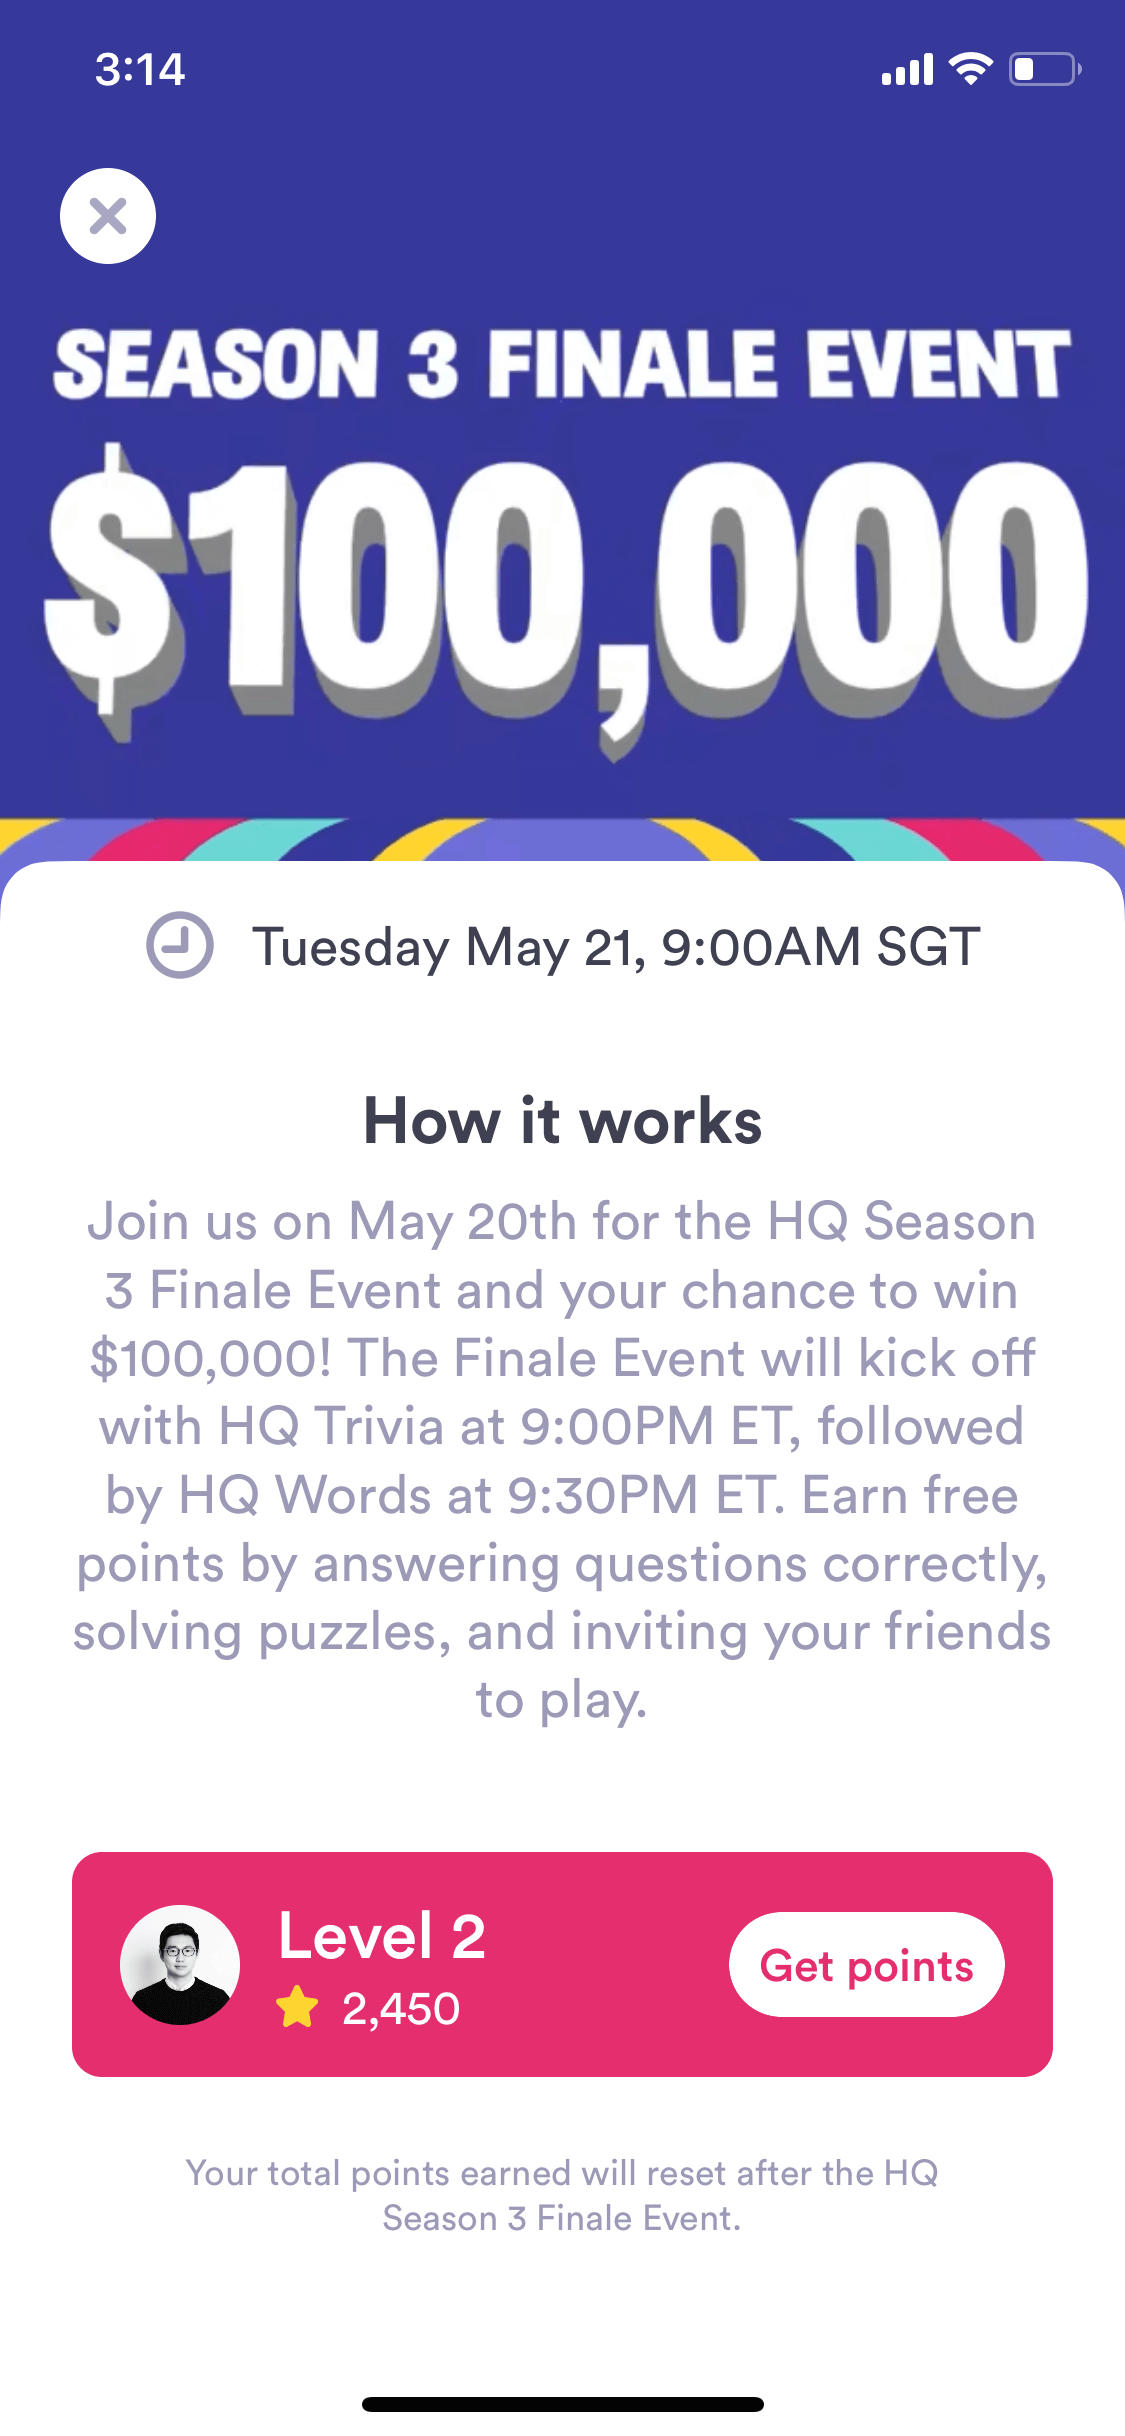Buttons: (721, 1898, 1016, 2034), (54, 157, 169, 270)
